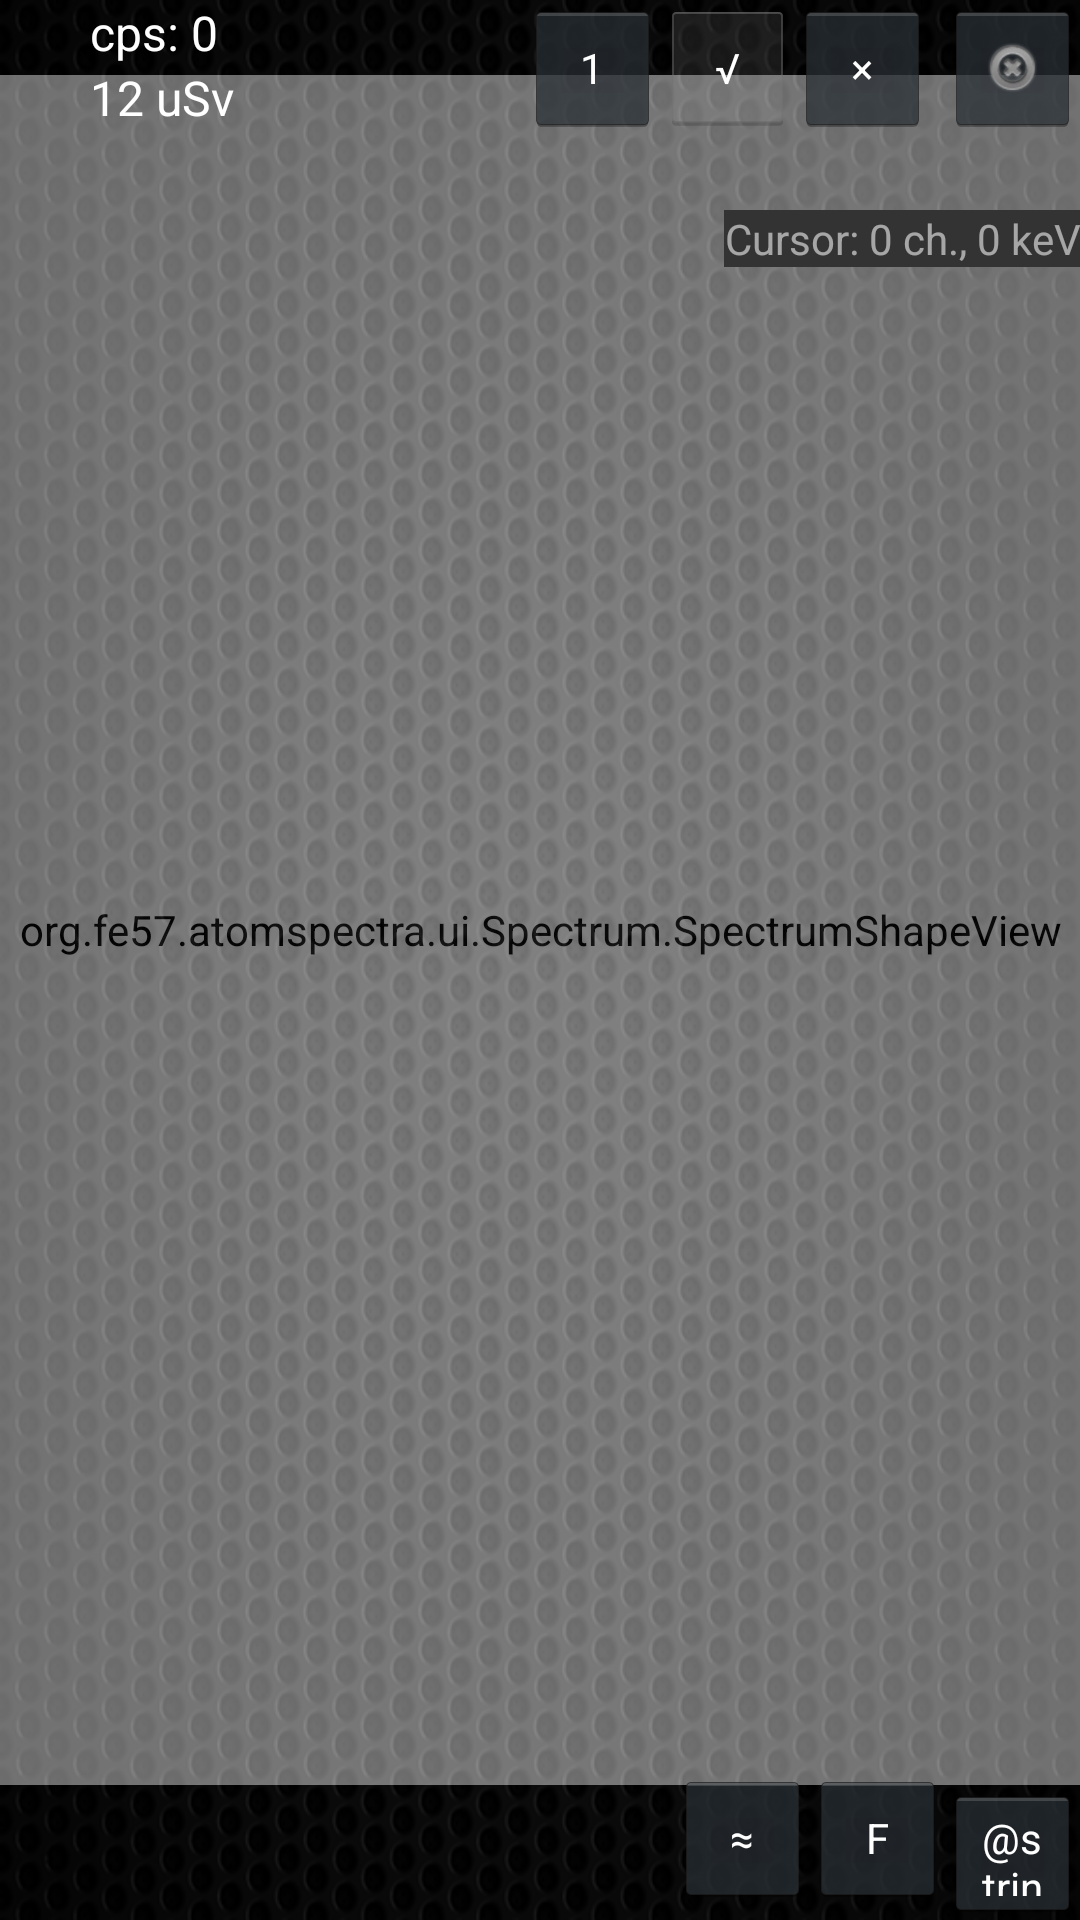

Where icons sit on this 1080px x 1920px app screen, as (x1, y1, x2, y2):
Clear spectrum: (945, 0, 1080, 127)
